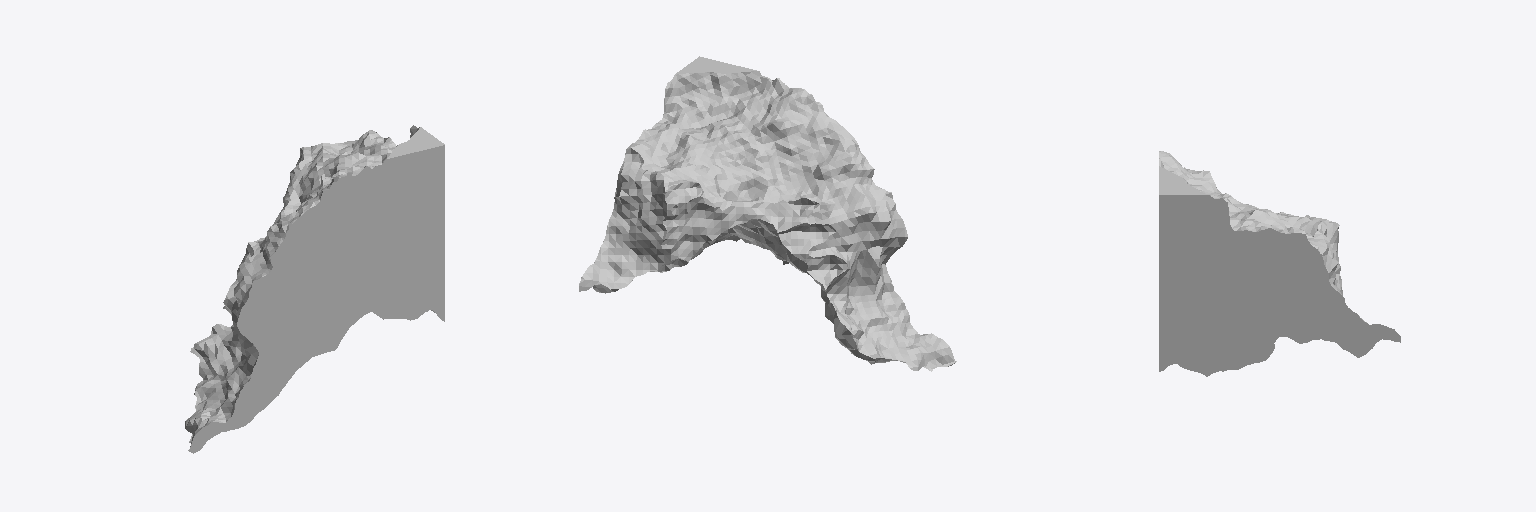
Rendered from Cube_shard.obj.
The picture shows the model from 3 angles: view 1: azimuth 30°, elevation 25°; view 2: azimuth 150°, elevation 25°; view 3: azimuth 270°, elevation 25°; orthographic projection.
Parts seen in each view (by area): view 1: Cube_shard_Cube_shard.140; view 2: Cube_shard_Cube_shard.140; view 3: Cube_shard_Cube_shard.140.
Boxes of the visible parts, x1=… form: Cube_shard_Cube_shard.140: x1=185, y1=125, x2=444, y2=453; Cube_shard_Cube_shard.140: x1=579, y1=56, x2=956, y2=371; Cube_shard_Cube_shard.140: x1=1159, y1=151, x2=1400, y2=376.
Bounding box in the file's own units: 1.69 × 1.55 × 1.37.